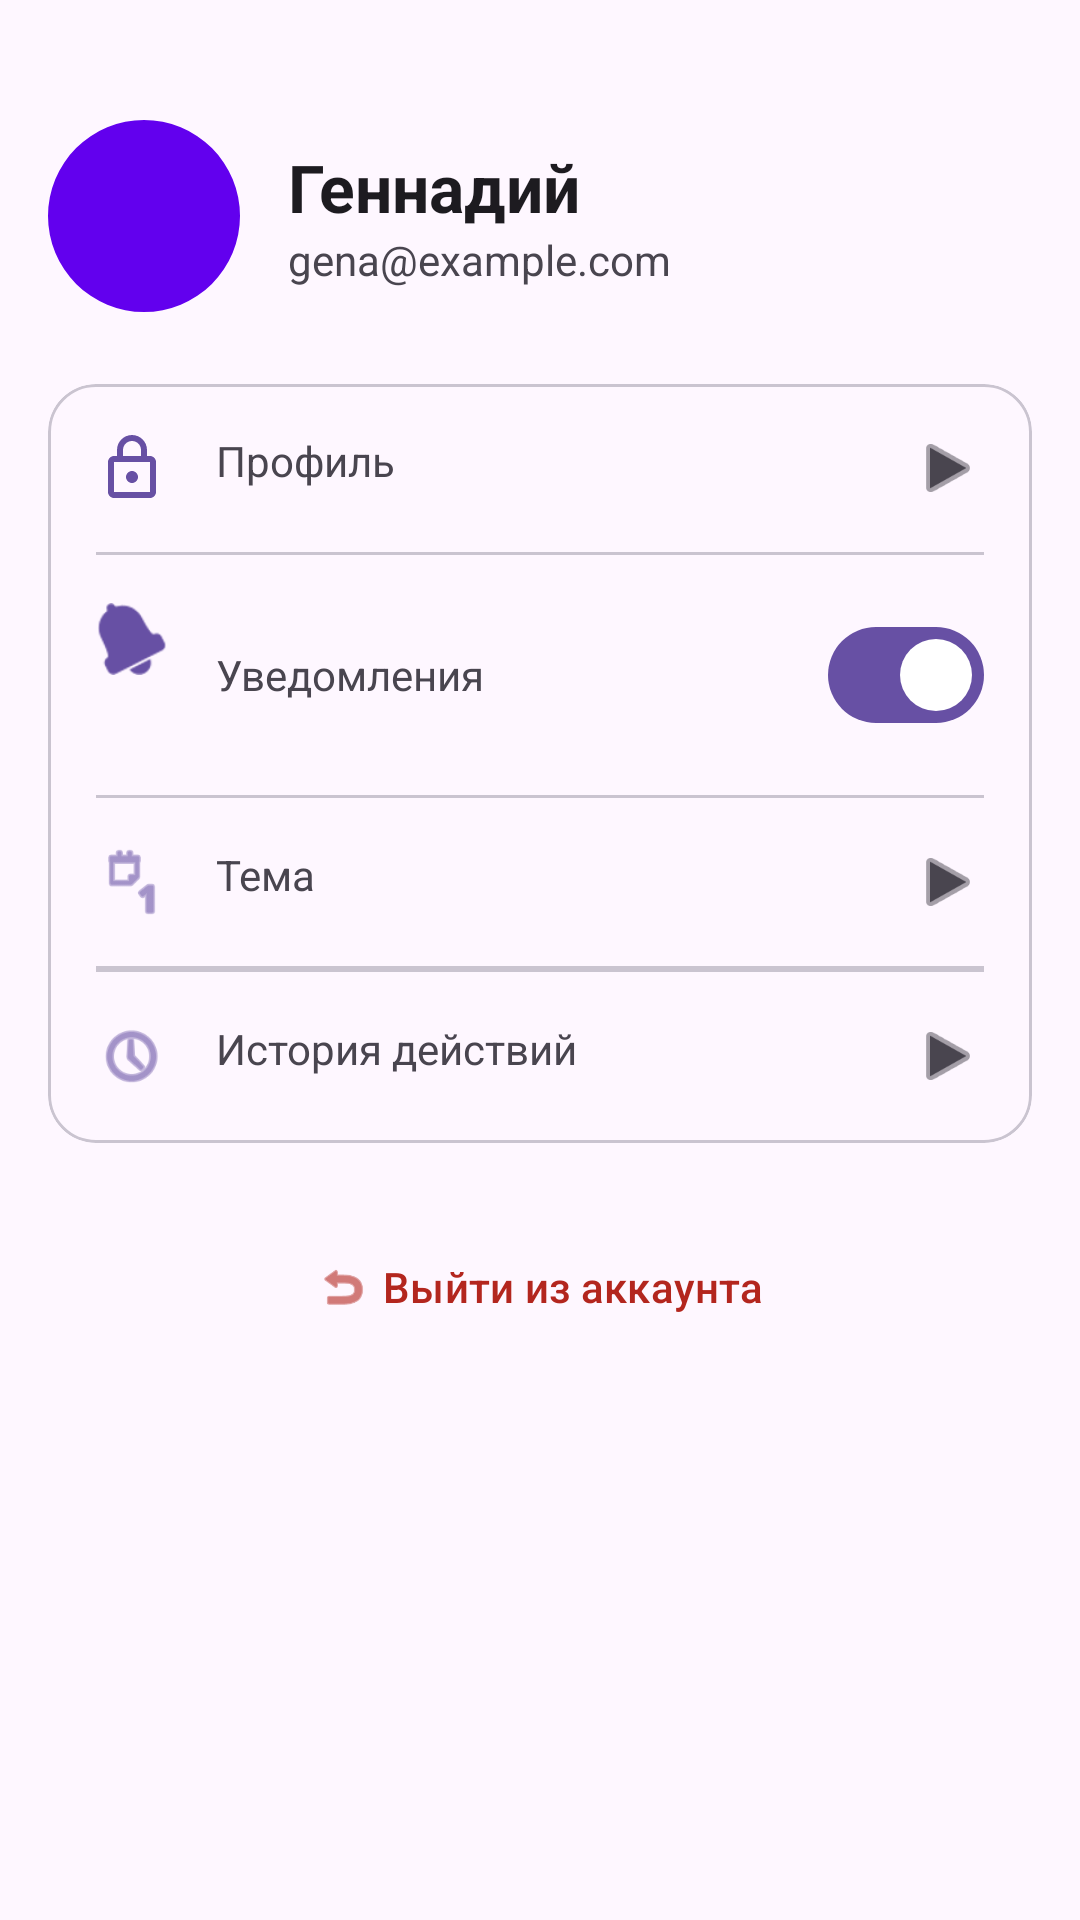

Where to tap for icons on this 1080×1920 app screen, as (x=x, y=y):
day: (x=131, y=882)
lock: (x=132, y=466)
play: (x=948, y=468), (x=948, y=882), (x=948, y=1056)
popup reminder: (x=132, y=639)
recent history: (x=132, y=1056)
